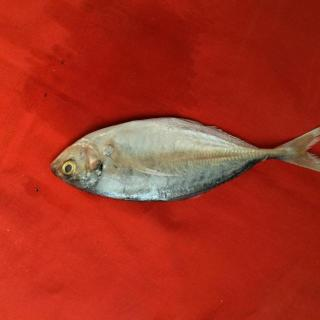Ikan: (51, 112, 320, 205)
